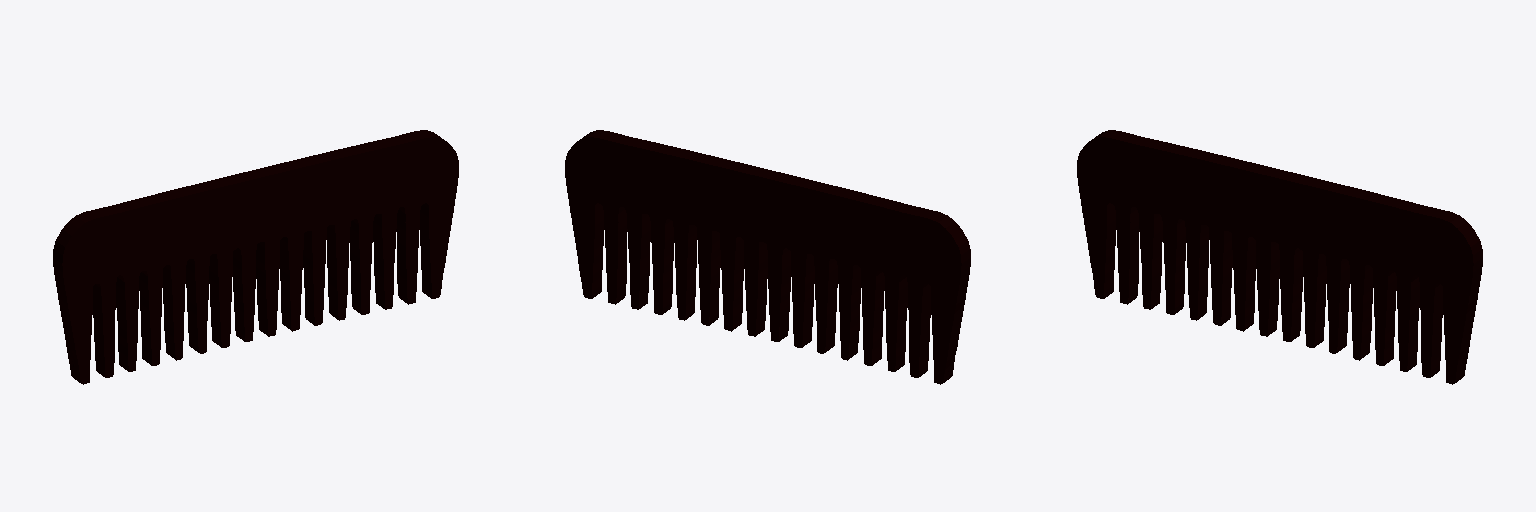
File: comb_OBJ.obj
3 renders of one model, left to right at view 1: azimuth 30°, elevation 25°; view 2: azimuth 150°, elevation 25°; view 3: azimuth 330°, elevation 25°, orthographic.
Parts seen in each view (by area): view 1: pCube1; view 2: pCube1; view 3: pCube1.
Part boxes in pixels (bbox=[...]): pCube1: bbox=[53, 130, 458, 384]; pCube1: bbox=[565, 130, 970, 384]; pCube1: bbox=[1077, 130, 1482, 384].
Bounding box in the file's own units: 6.21 × 2.45 × 0.2596.